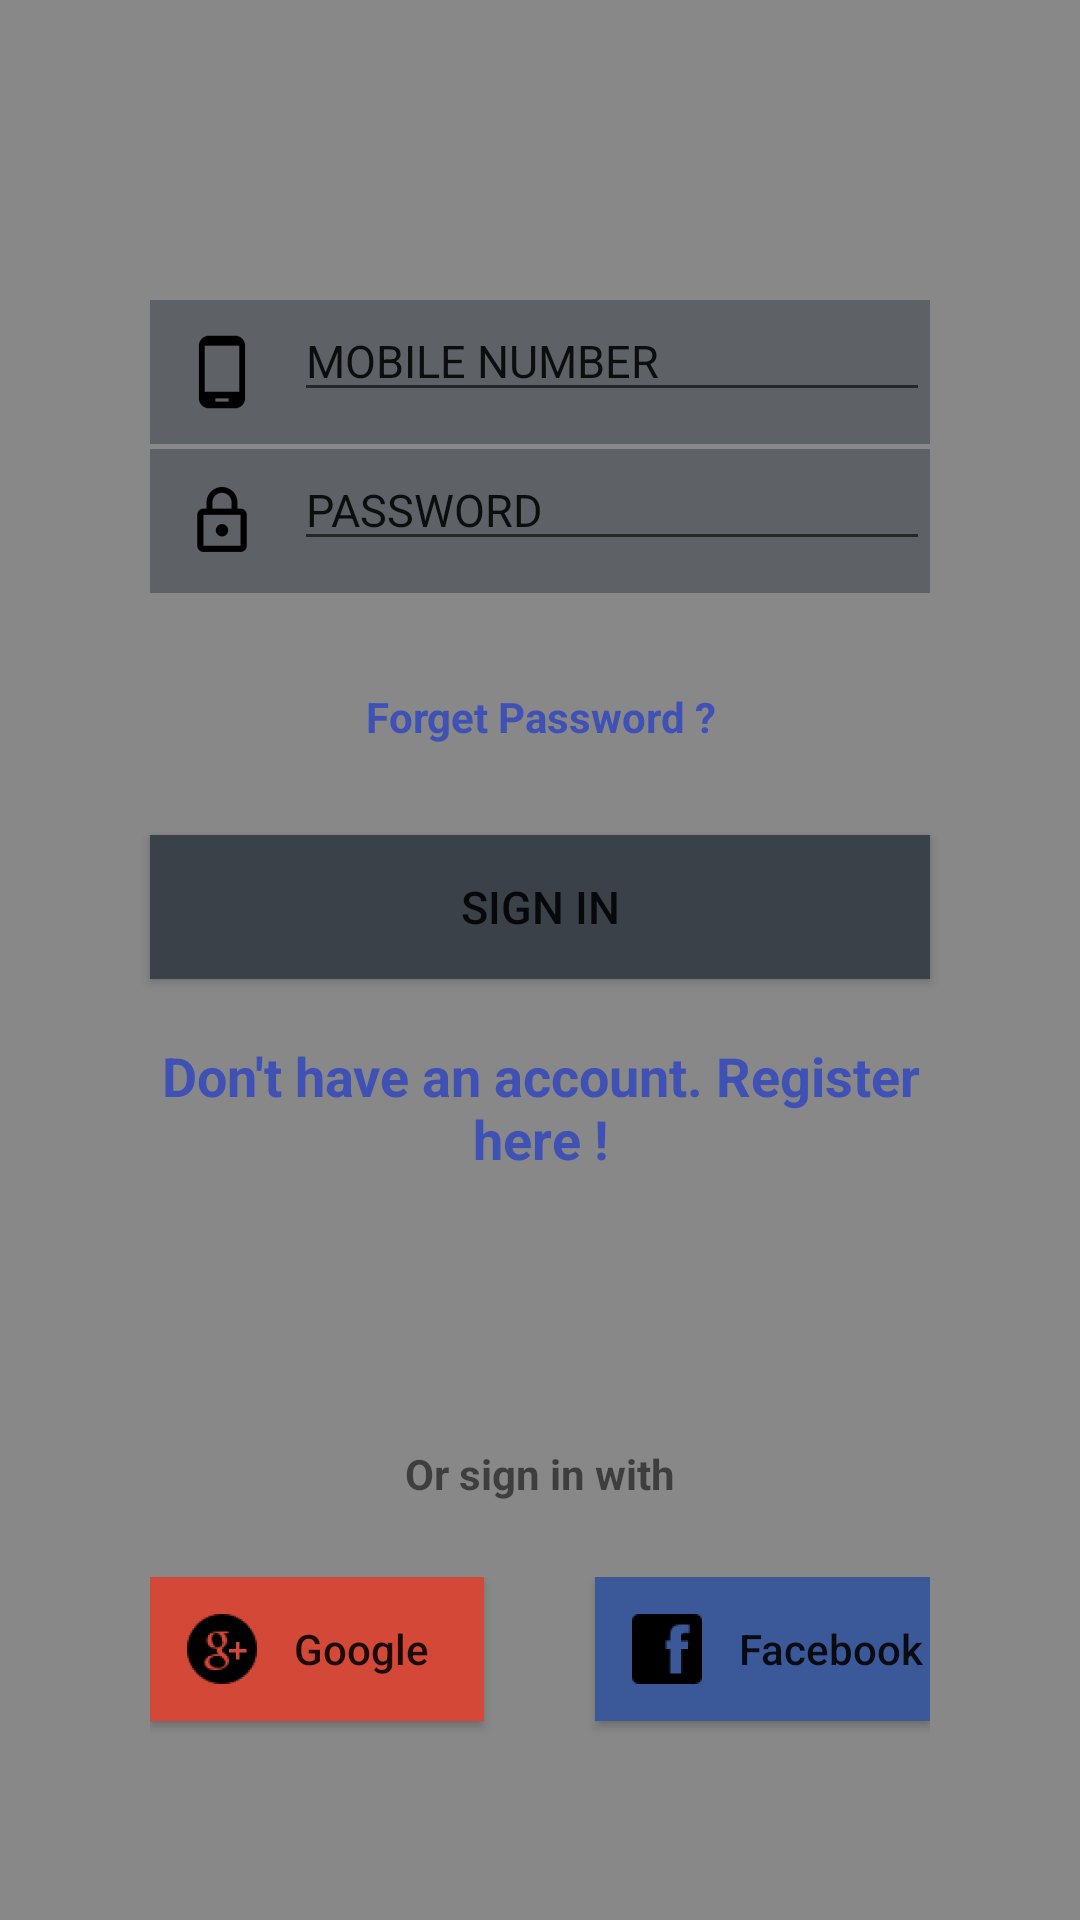

Where to tap for icons on this 1080×1920 app screen, as [x,y]:
lock: [222,519]
